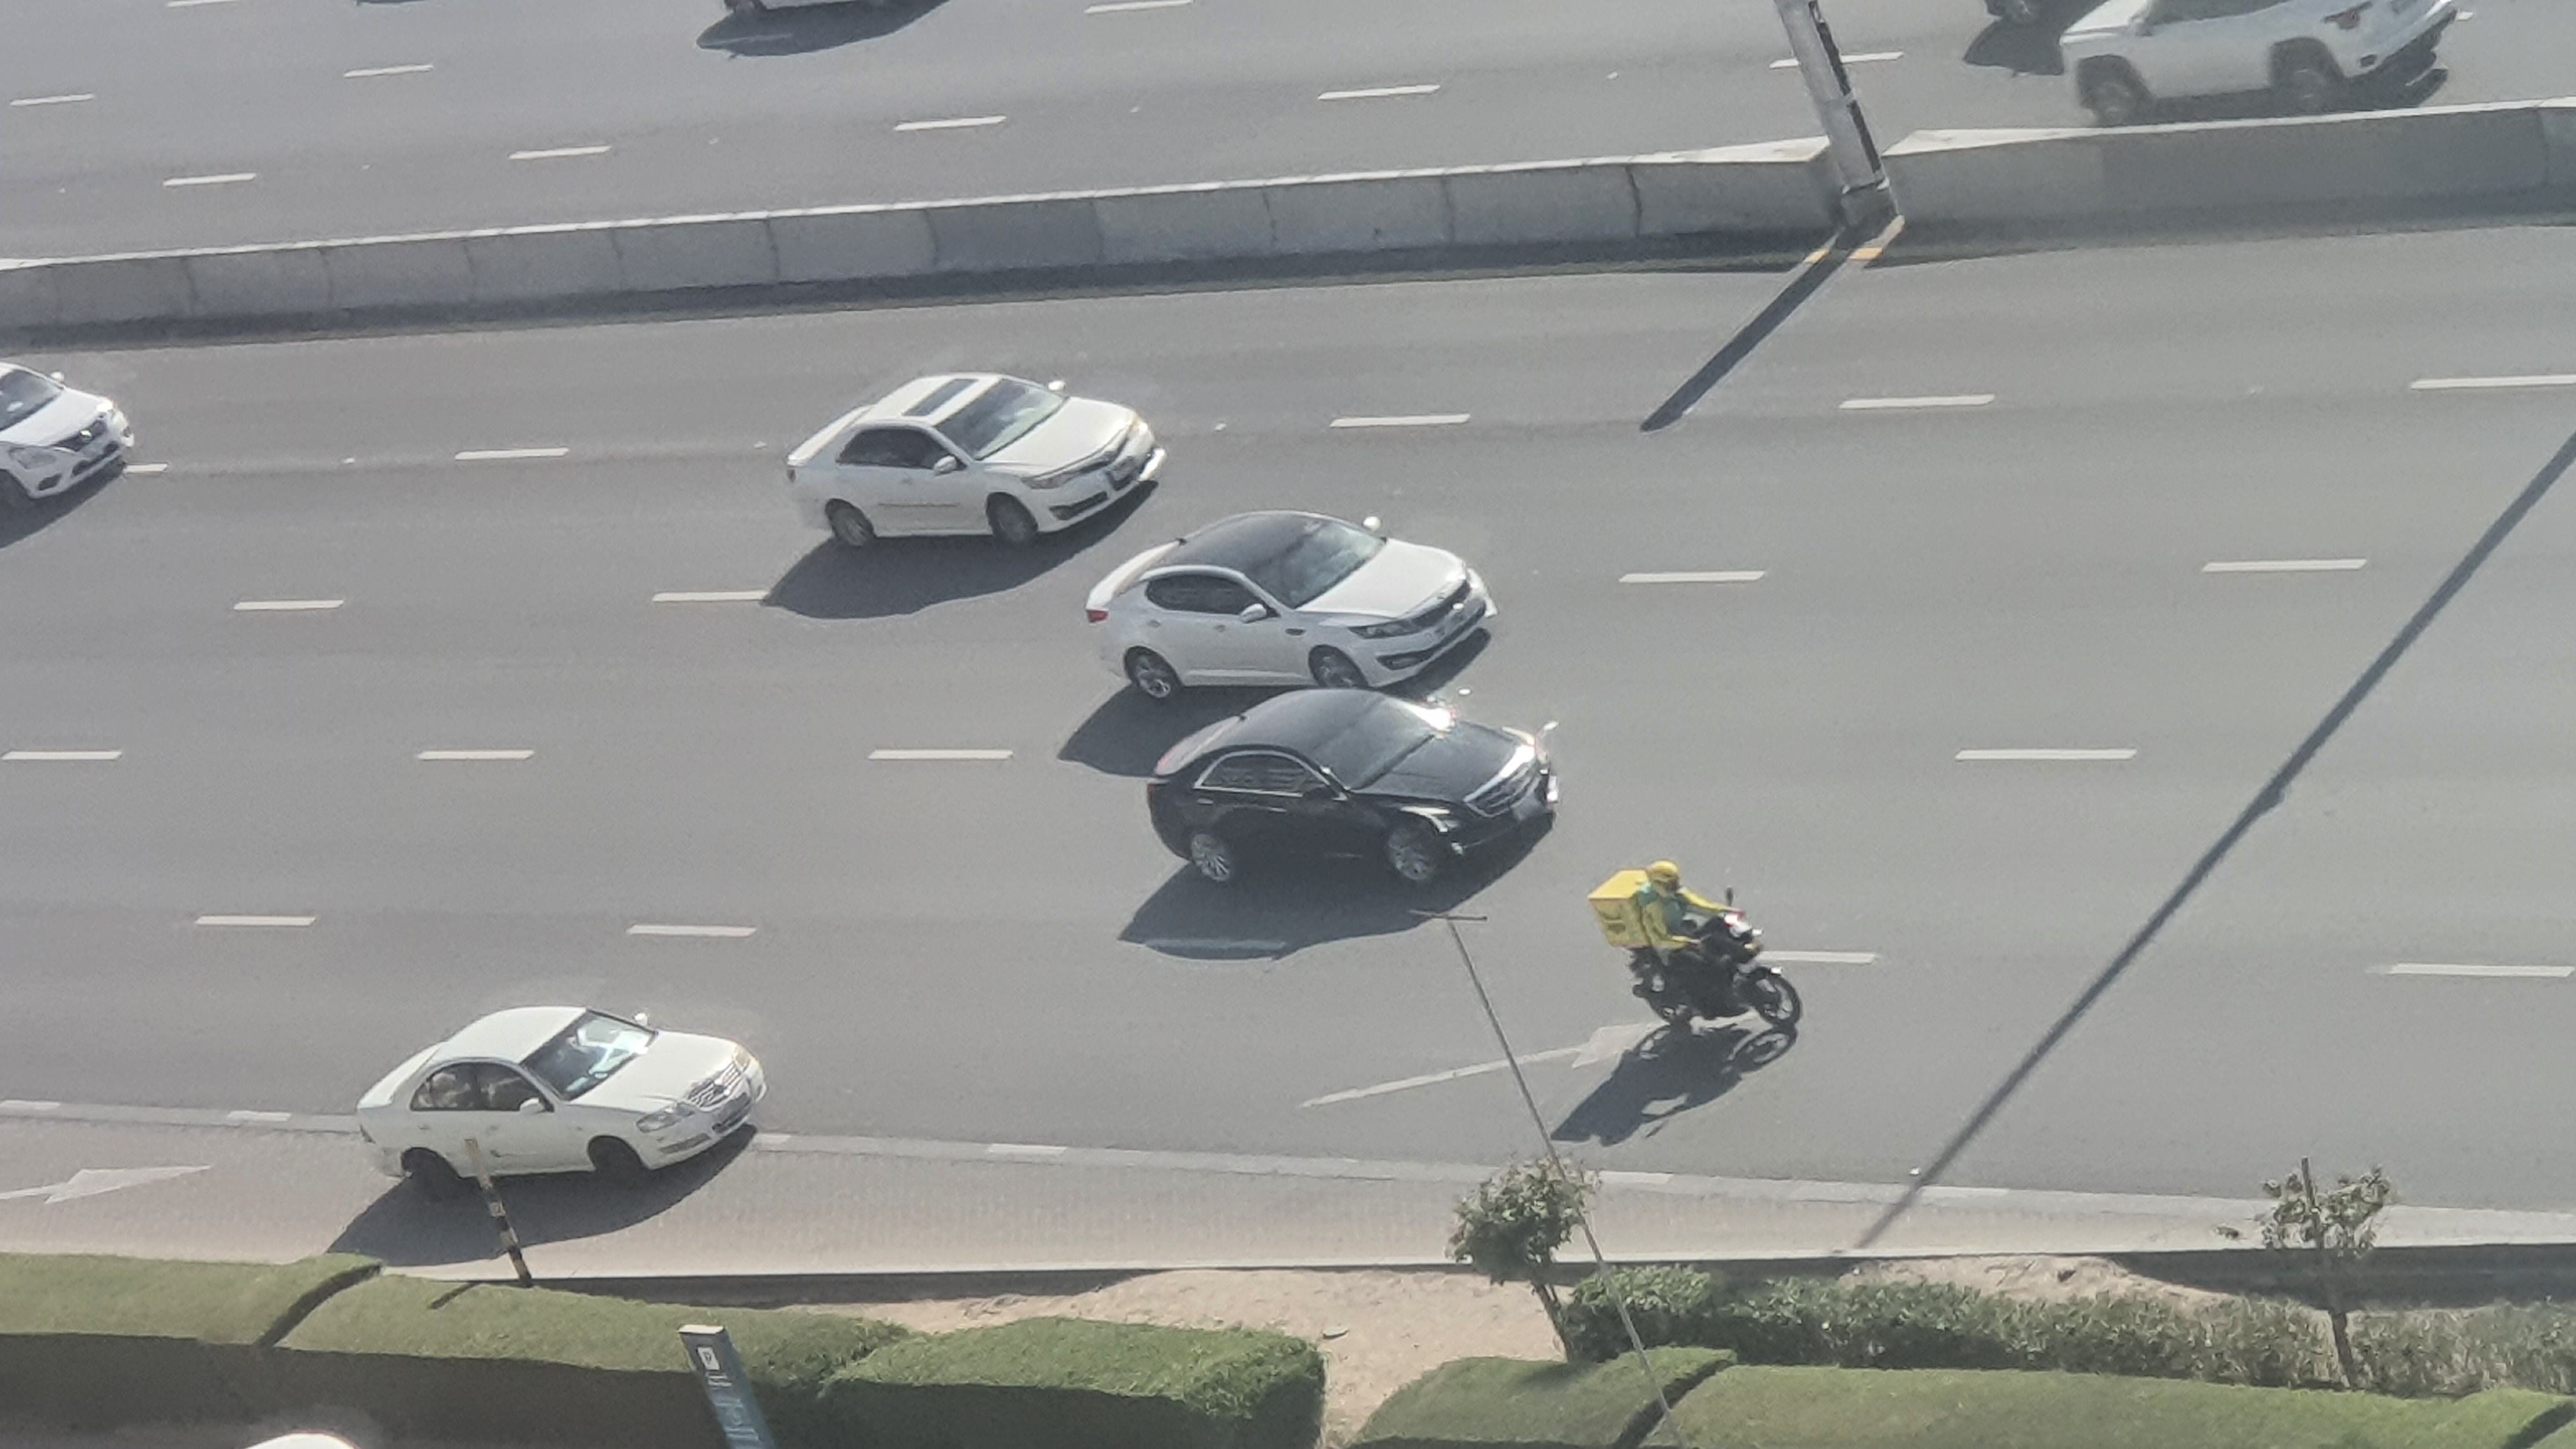NotSunroof: (361, 989, 777, 1194), (1150, 686, 1555, 897)
Sunroof: (1081, 513, 1499, 697), (786, 373, 1164, 545)
